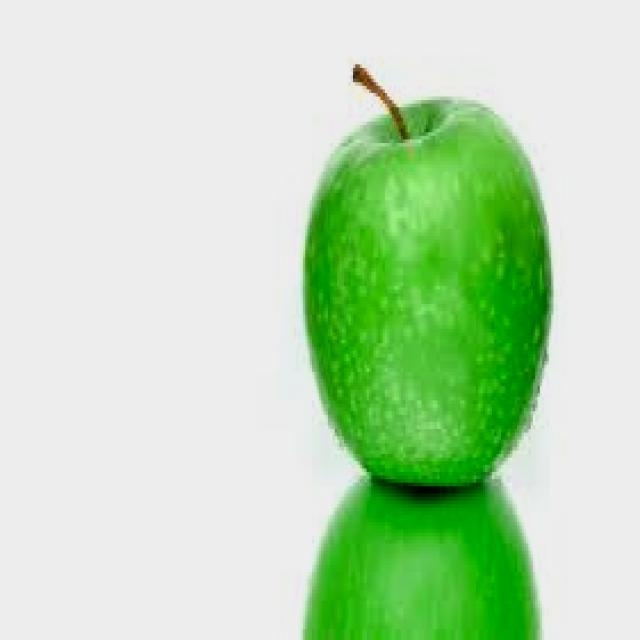agrume: (258, 66, 570, 550)
